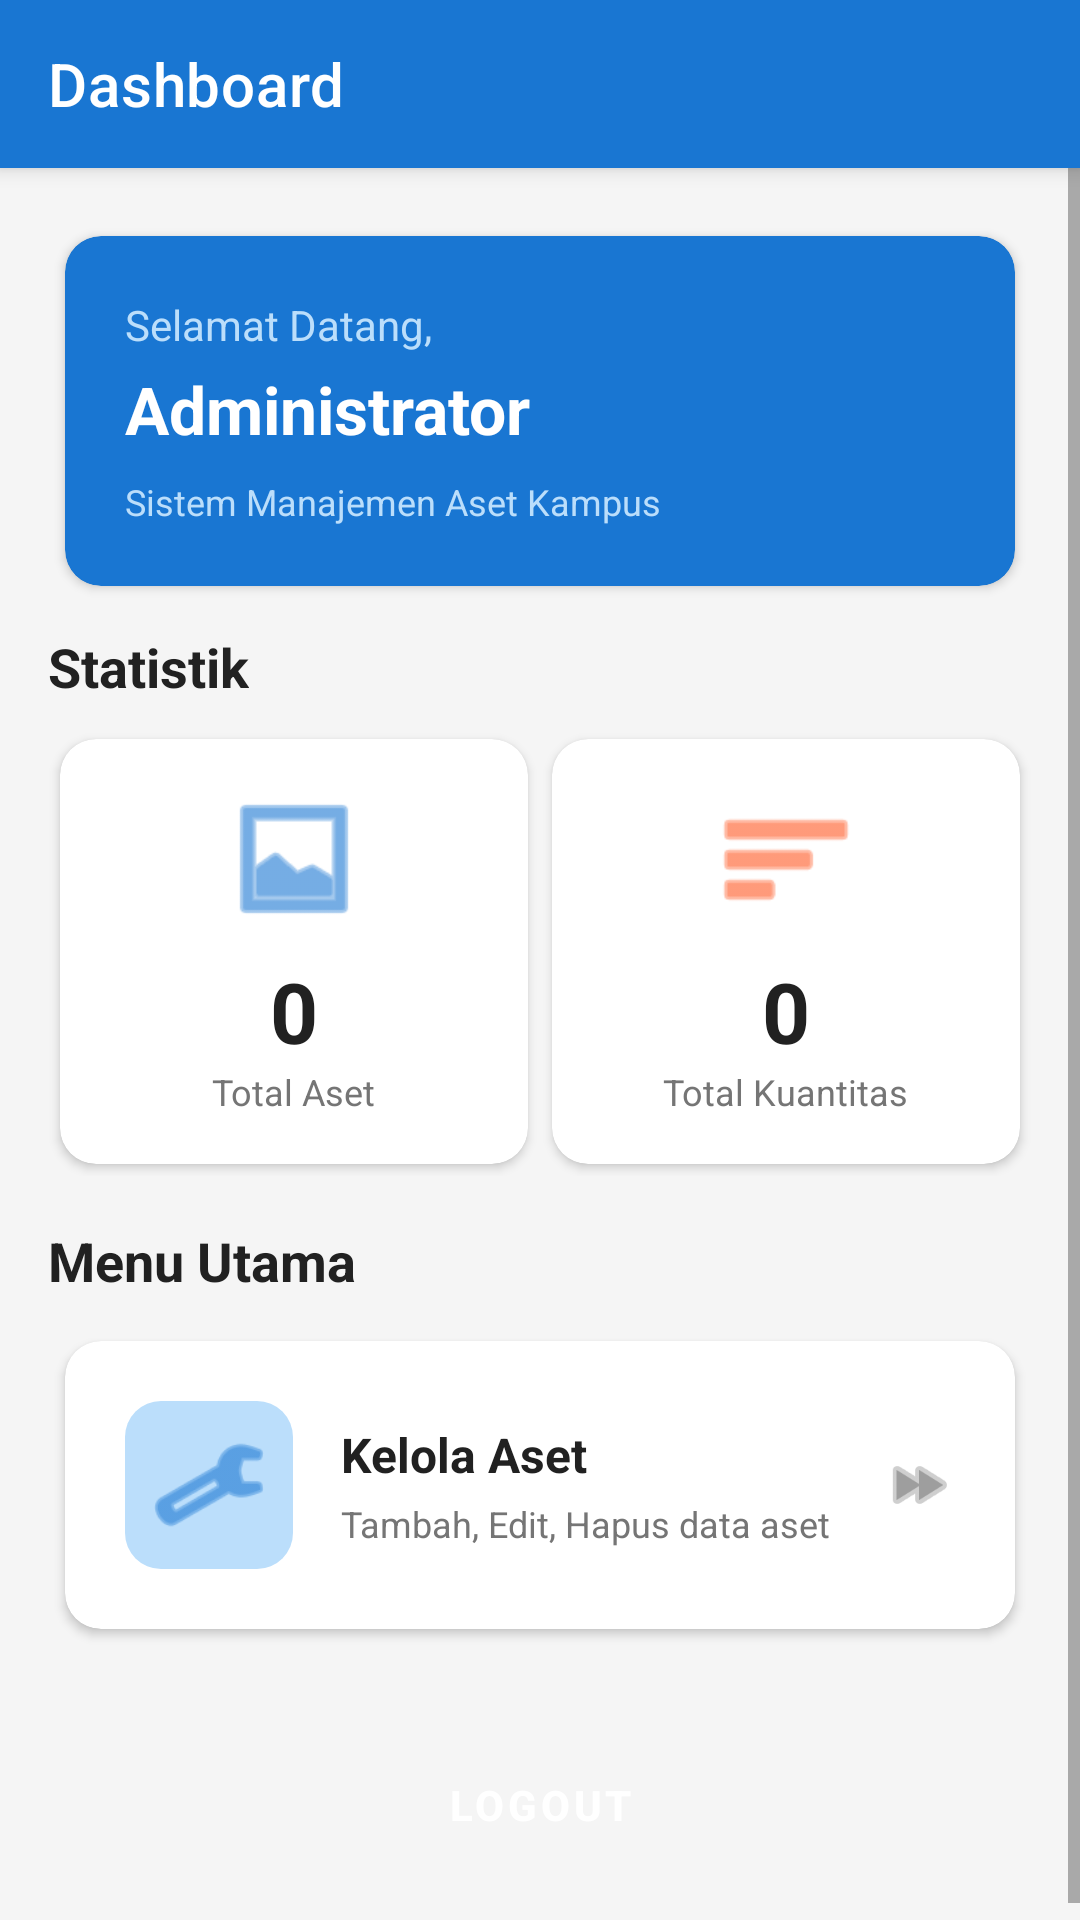

Screen size 1080x1920. Icon name, then its center in pixels as [x,y]:
gallery: [294,859]
manage: [209,1485]
sort by size: [786,859]
